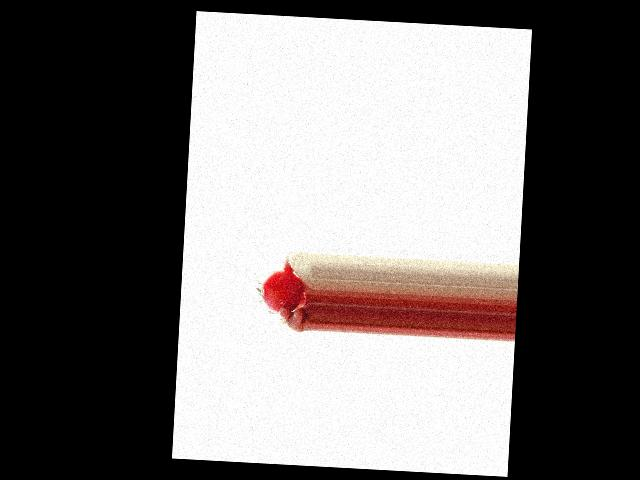tomato: (259, 269, 304, 315)
